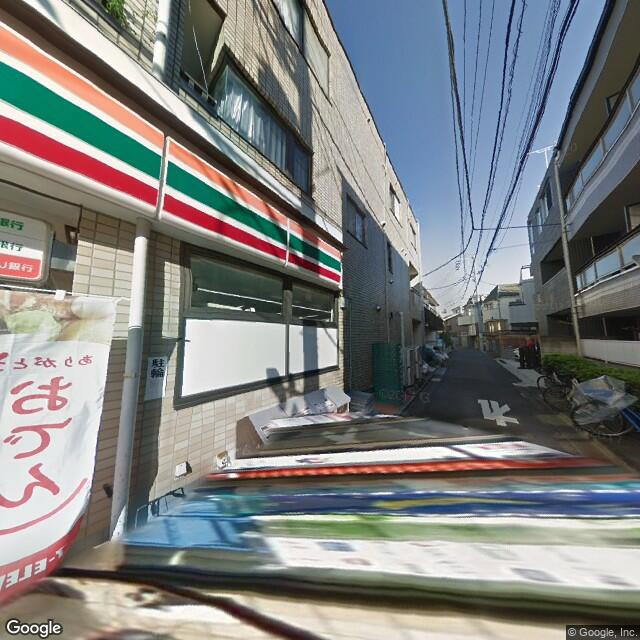7-eleven: (1, 8, 345, 293)
